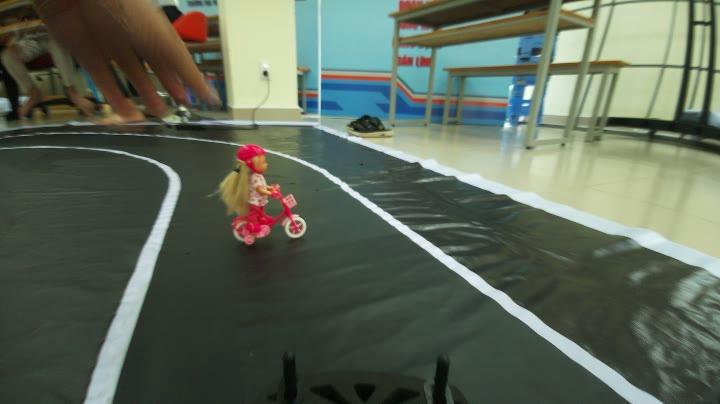pedestrian: (197, 146, 312, 242)
